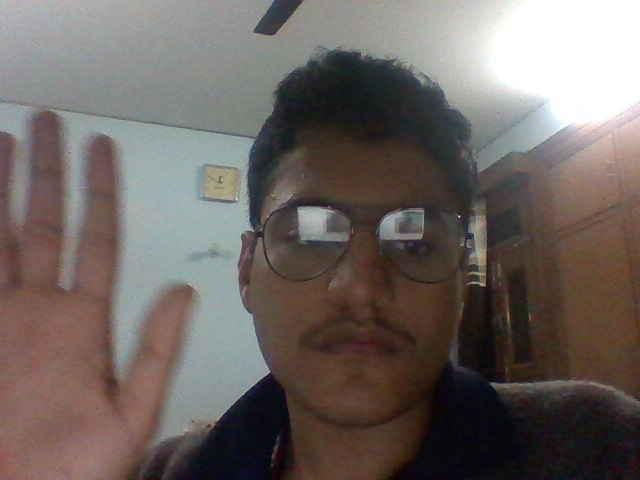Hello: (4, 94, 206, 480)
